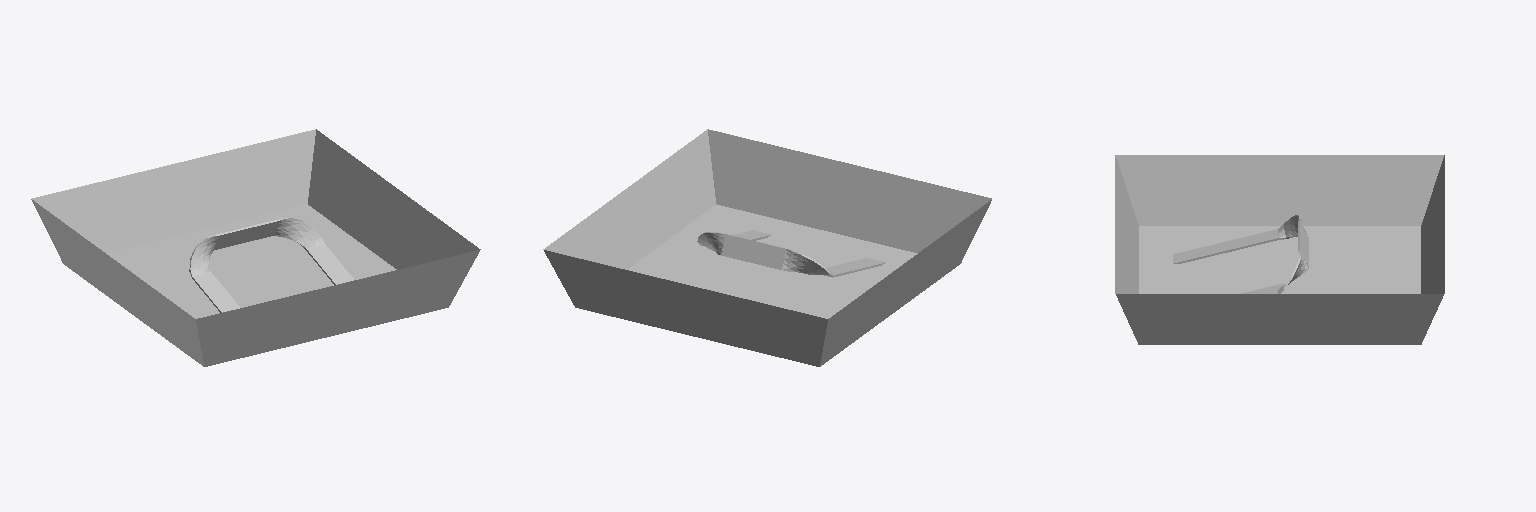
File: vehicle_workshop_terrain3.obj
3 views of the same model, side by side, from view 1: azimuth 30°, elevation 25°; view 2: azimuth 150°, elevation 25°; view 3: azimuth 270°, elevation 25° (orthographic).
Visible parts, largest first — view 1: Plane, Turn.001, Cube.002, Cube.001, Cube, Turn; view 2: Plane, Cube.002, Turn, Cube; view 3: Plane, Cube.
Boxes of the visible parts, x1=… form: Plane: x1=31, y1=129, x2=480, y2=366; Turn.001: x1=274, y1=217, x2=324, y2=249; Cube.002: x1=215, y1=220, x2=278, y2=249; Cube.001: x1=306, y1=244, x2=353, y2=284; Cube: x1=192, y1=272, x2=239, y2=312; Turn: x1=189, y1=234, x2=217, y2=276; Plane: x1=543, y1=129, x2=991, y2=366; Cube.002: x1=721, y1=234, x2=784, y2=269; Turn: x1=781, y1=249, x2=833, y2=276; Cube: x1=824, y1=258, x2=885, y2=277; Plane: x1=1115, y1=155, x2=1444, y2=344; Cube: x1=1173, y1=229, x2=1278, y2=263.
Size of the model in its own units: 300 by 64.01 by 300.